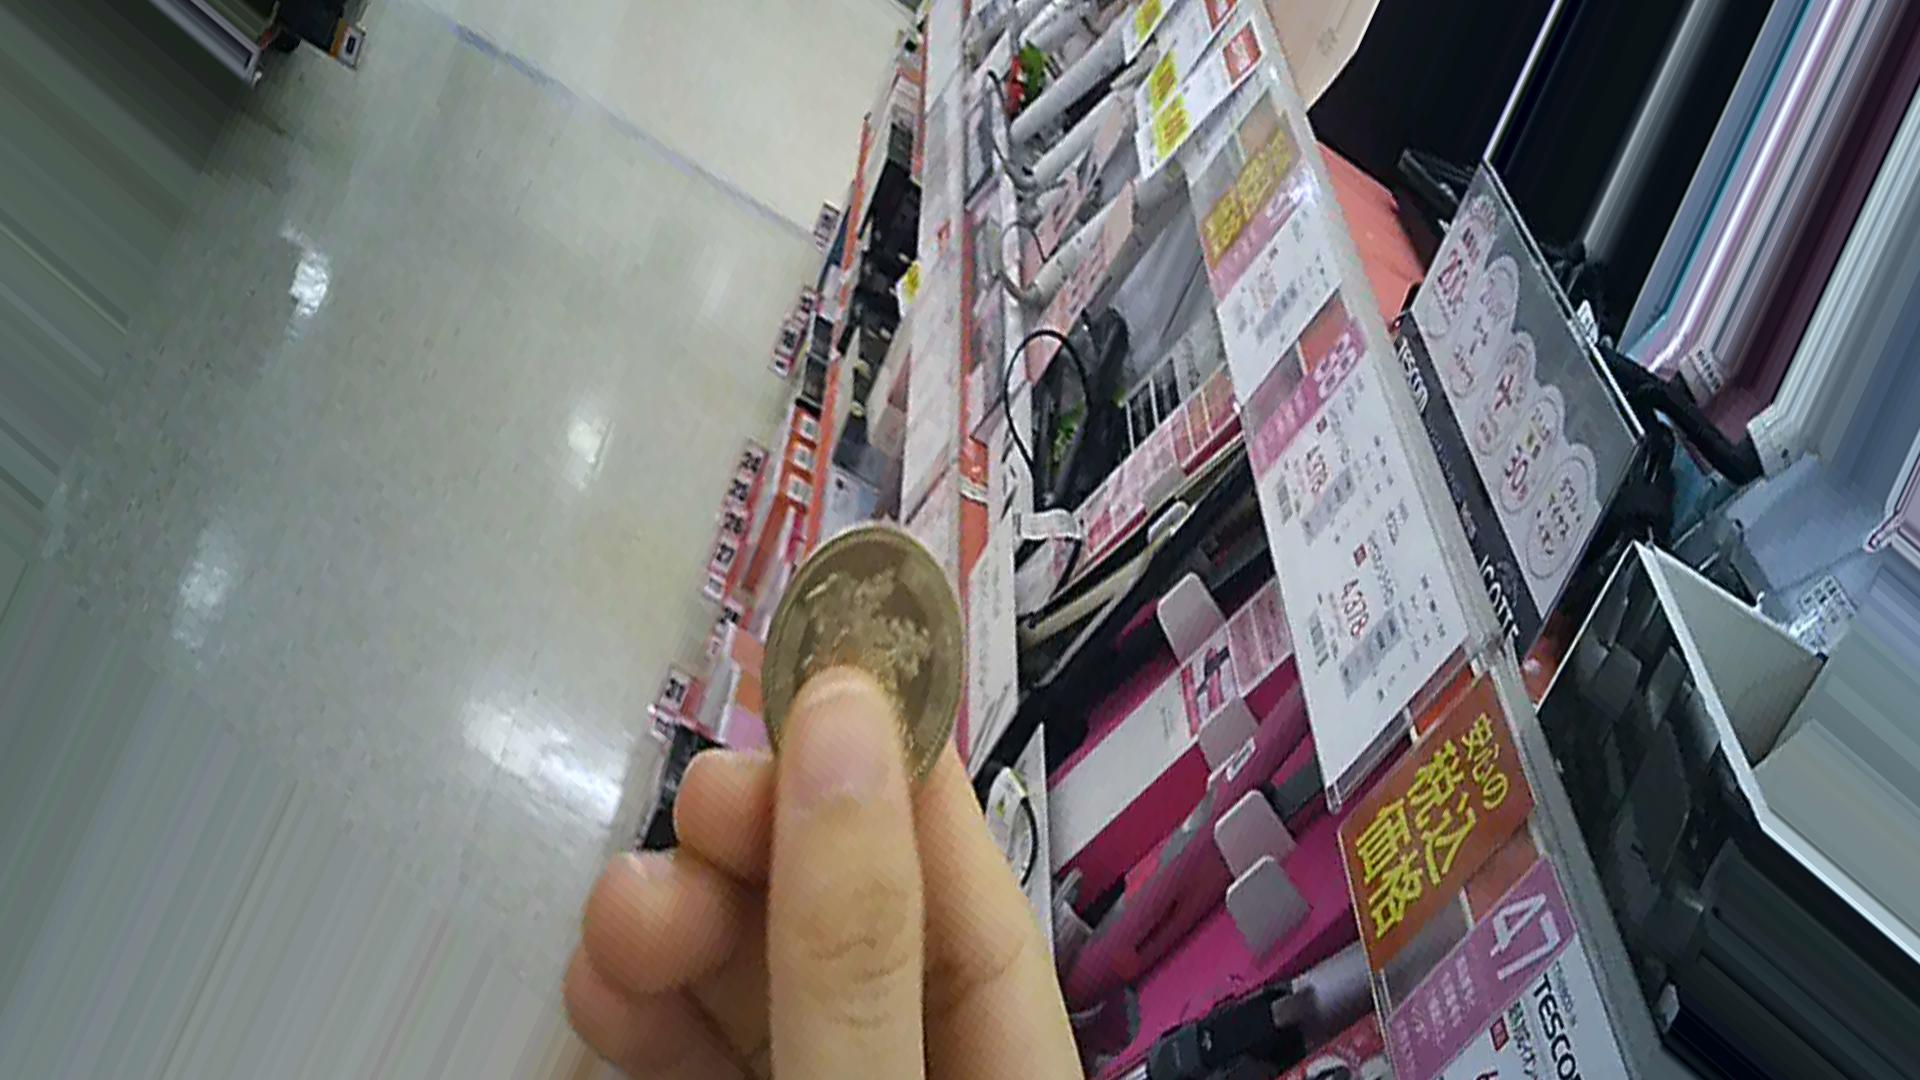500 Yen: (761, 518, 964, 804)
